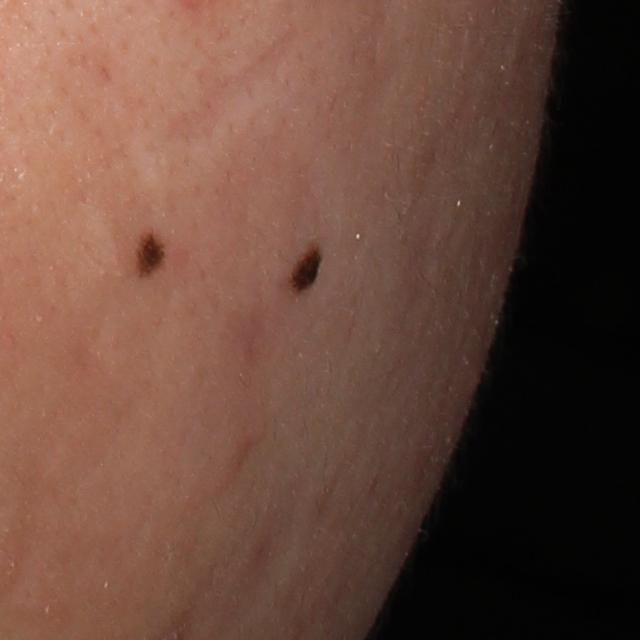atrophic_scar: (152, 29, 319, 164)
nevus: (285, 242, 325, 301), (135, 224, 174, 281)
other: (155, 19, 304, 148)
